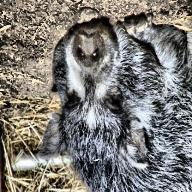boar: (37, 13, 192, 192)
